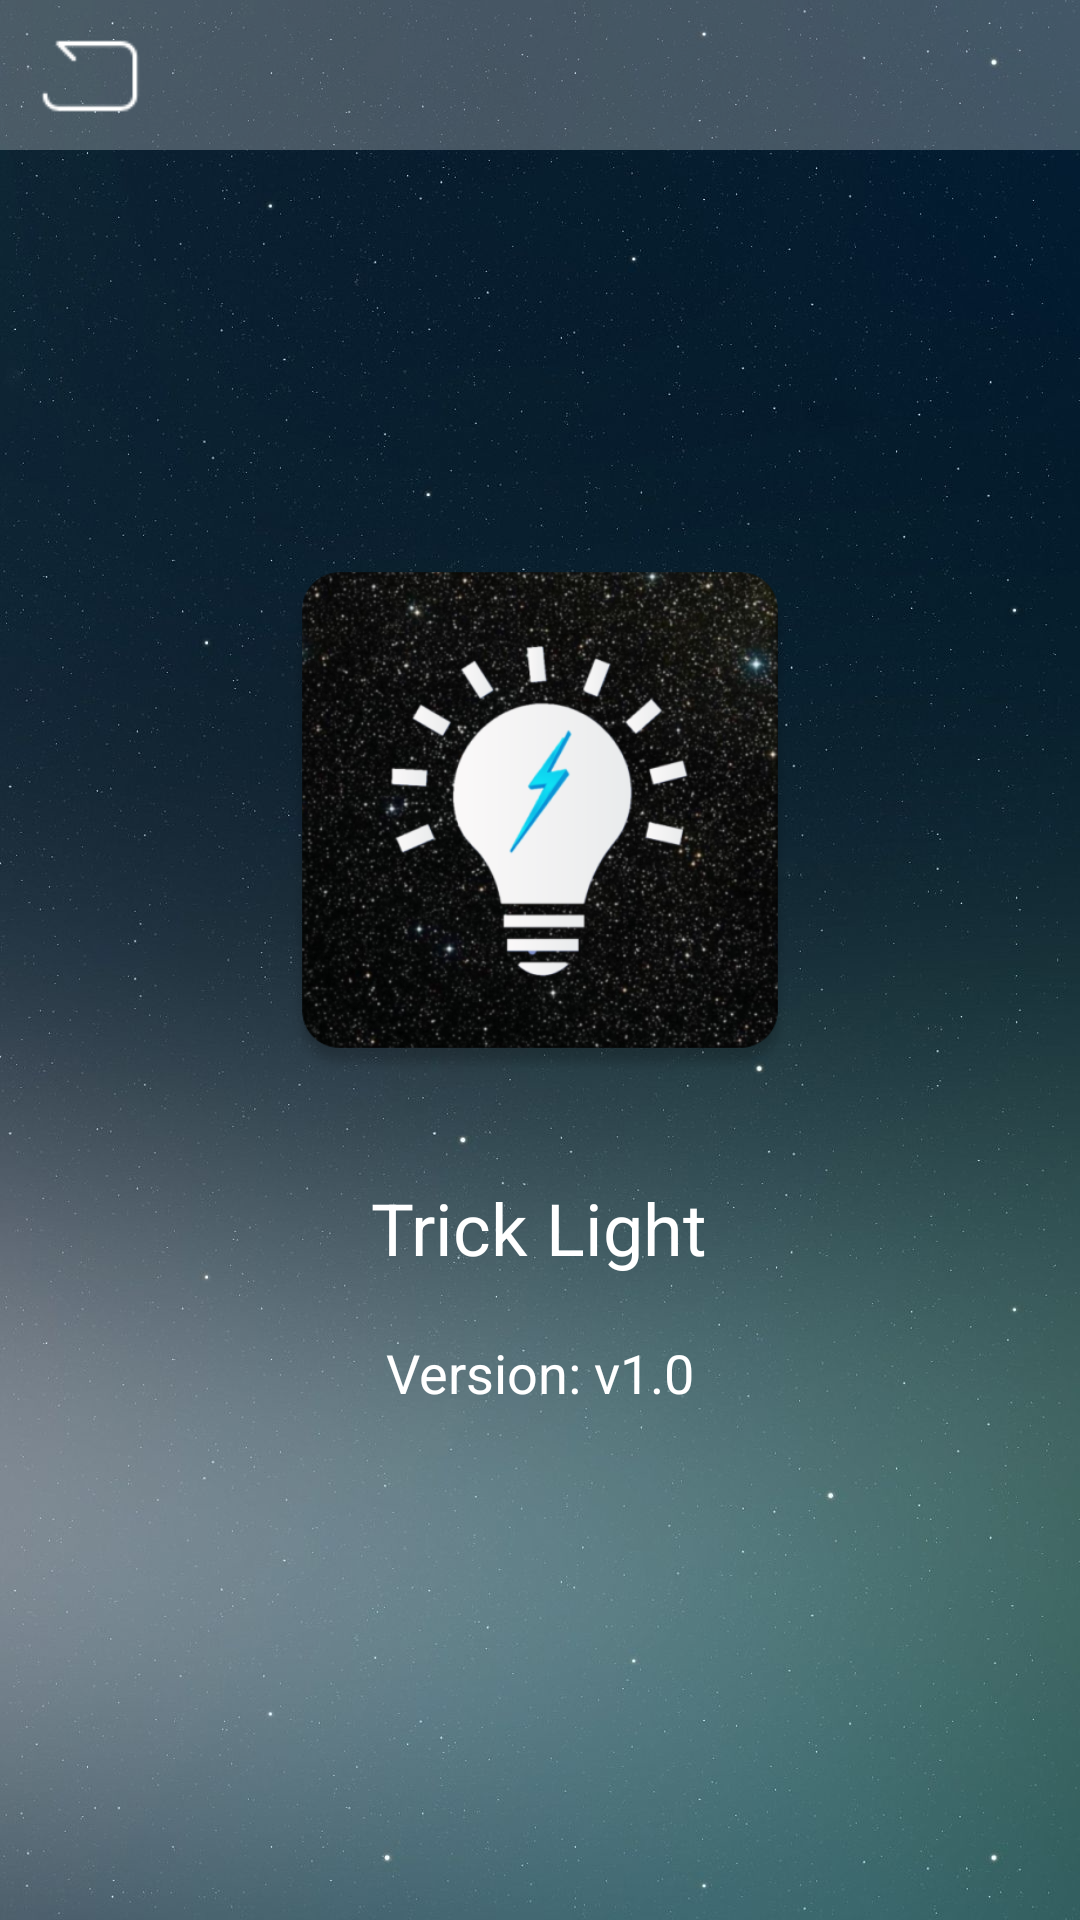

Named icons in this screenshot (1080×1920) and their bounding boxes, rect(x1, y1, x2, y2):
back: rect(30, 22, 144, 133)
